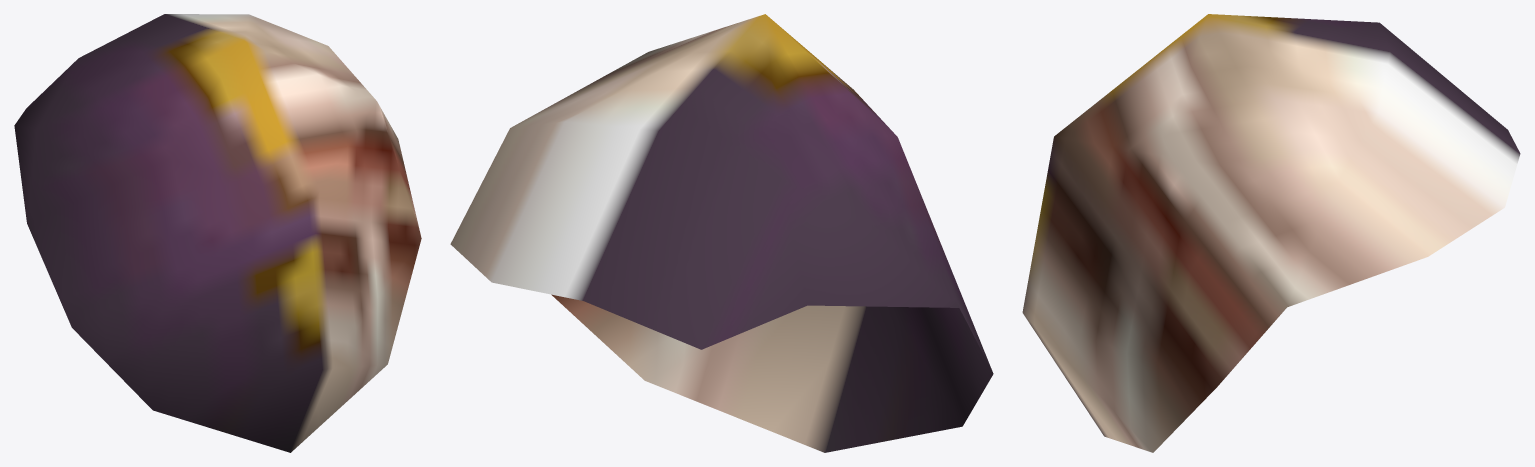
The model's file is fg_S_seedpitfall_out.dae.
3 renders of one model, left to right at view 1: azimuth 30°, elevation 25°; view 2: azimuth 150°, elevation 25°; view 3: azimuth 270°, elevation 25°, orthographic. The views are drawn at different scales.
Visible parts, largest first — view 1: fg_S_seedpitfall_out; view 2: fg_S_seedpitfall_out; view 3: fg_S_seedpitfall_out.
Boxes of the visible parts, left/top/right/bottom form: fg_S_seedpitfall_out: left=14, top=14, right=421, bottom=452; fg_S_seedpitfall_out: left=450, top=14, right=993, bottom=452; fg_S_seedpitfall_out: left=1022, top=14, right=1520, bottom=452.
Bounding box in the file's own units: 14.33 × 13.83 × 14.77.
1 material, 1 textured.
